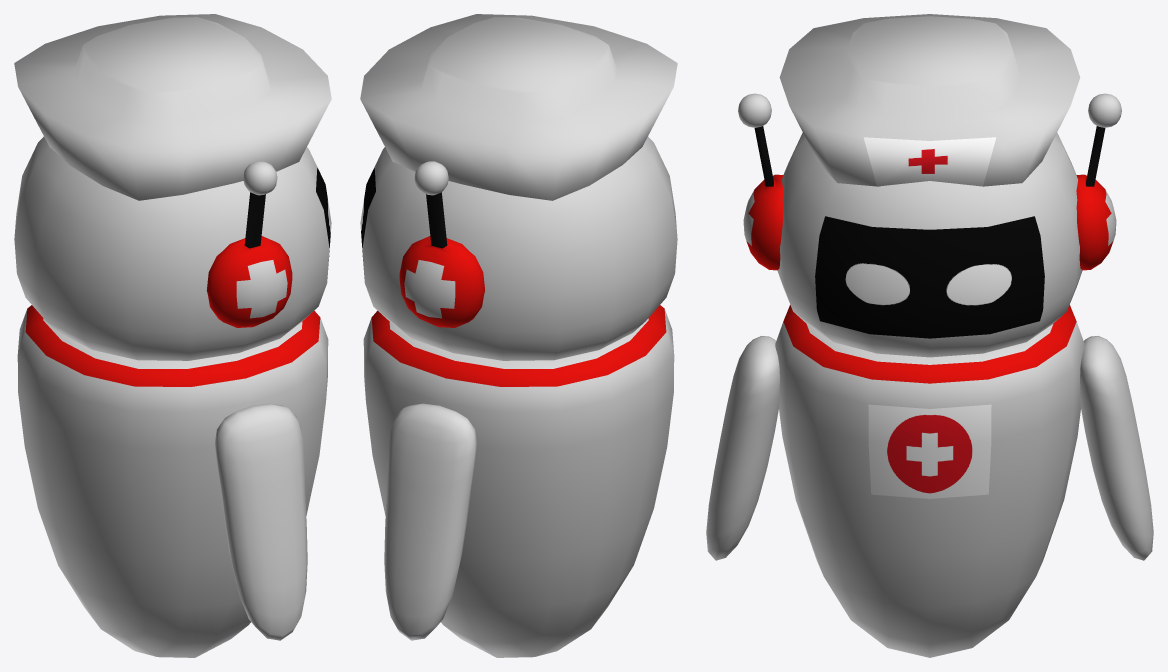
File: Avatar_Virtucare.glb
3 views of the same model, side by side, from view 1: azimuth 30°, elevation 25°; view 2: azimuth 150°, elevation 25°; view 3: azimuth 270°, elevation 25° (orthographic).
Visible parts, largest first — view 1: Cube.003, Cube.004, Cube.006, Cube.002, Cube.005, Cube; view 2: Cube.003, Cube.004, Cube.006, Cube.002, Cube.005, Cube; view 3: Cube.003, Cube.004, Cube.006, Cube.002, Cube.005, Cube.
Part boxes in pixels (<box>): Cube.003: <box>17,305,328,657</box>; Cube.004: <box>14,136,331,360</box>; Cube.006: <box>14,14,331,200</box>; Cube.002: <box>215,403,307,640</box>; Cube.005: <box>206,192,292,327</box>; Cube: <box>243,161,277,195</box>; Cube.003: <box>363,305,674,657</box>; Cube.004: <box>360,136,677,360</box>; Cube.006: <box>360,14,677,200</box>; Cube.002: <box>384,403,476,640</box>; Cube.005: <box>399,192,484,327</box>; Cube: <box>414,161,448,195</box>; Cube.003: <box>775,305,1084,657</box>; Cube.004: <box>777,132,1082,357</box>; Cube.006: <box>779,14,1080,186</box>; Cube.002: <box>706,336,1153,560</box>; Cube.005: <box>743,126,1116,270</box>; Cube: <box>738,93,1121,127</box>.
Size of the model in its own units: 2.64 by 5.52 by 3.74.
Materials: 6 (3 with a texture image).
